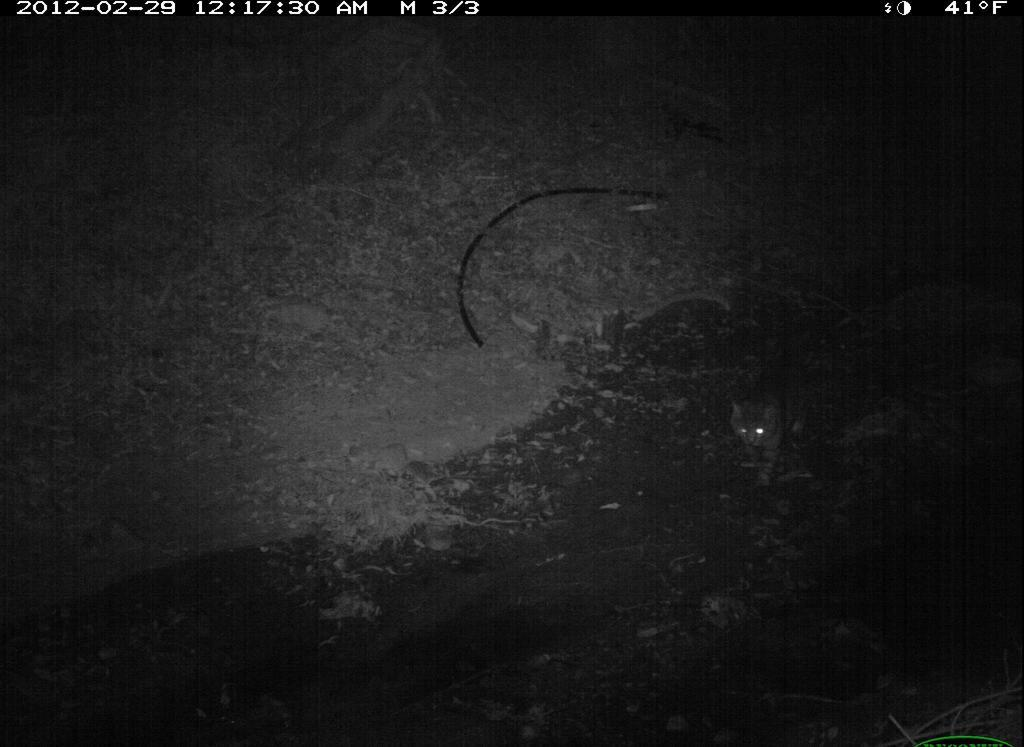cat: (706, 340, 895, 488)
